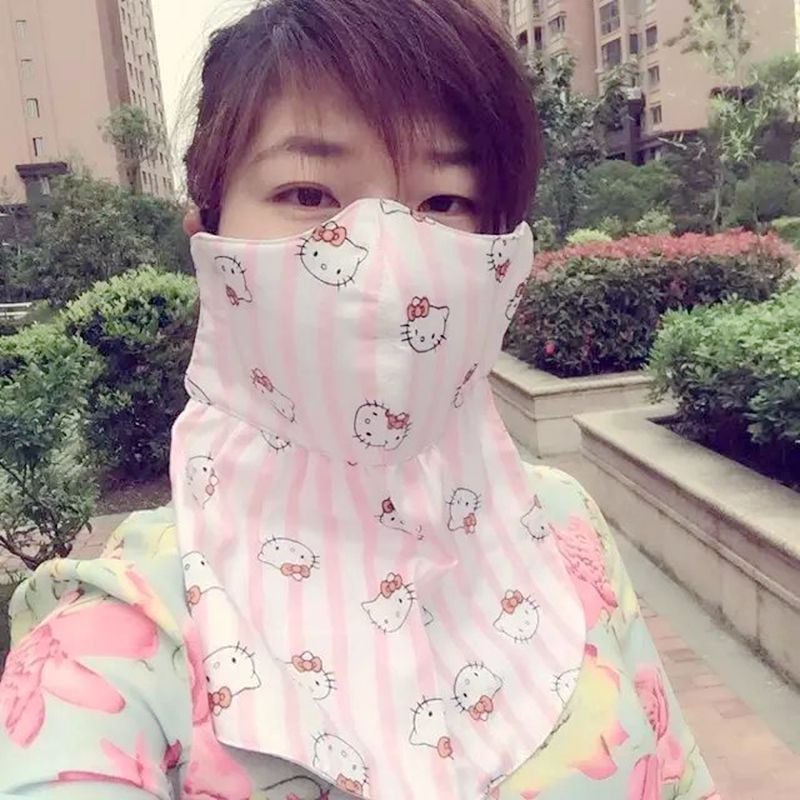face_mask: (218, 61, 499, 437)
